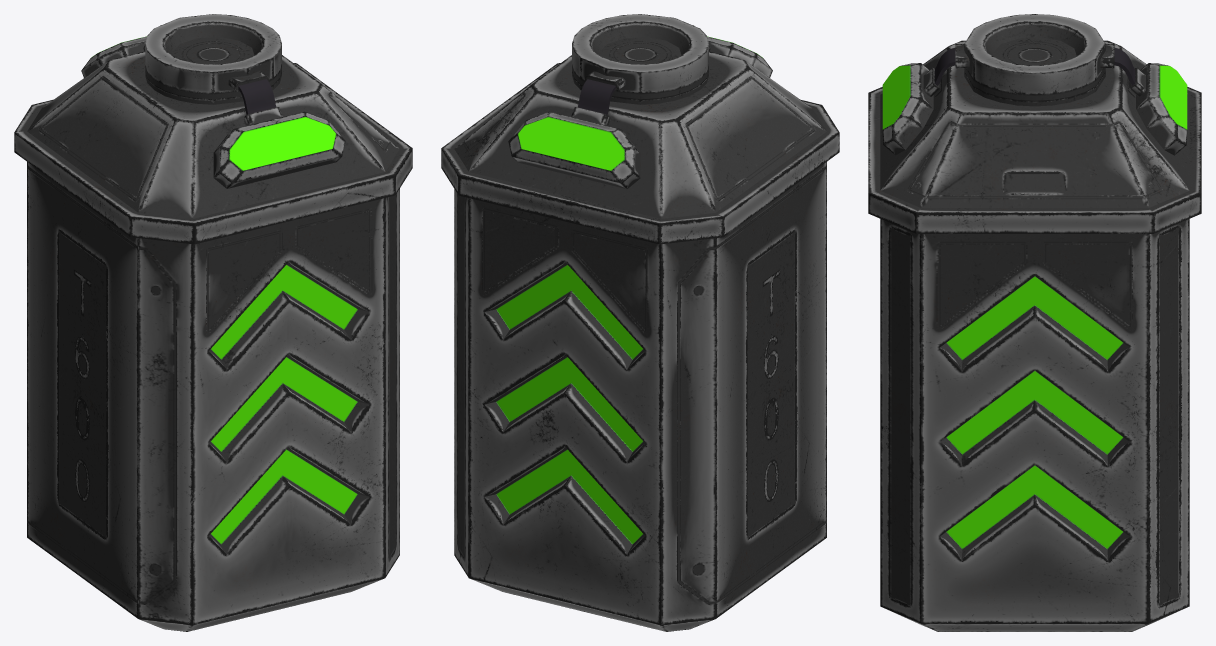
File: PowerCell.FBX
The picture shows the model from 3 angles, left to right: view 1: azimuth 30°, elevation 25°; view 2: azimuth 150°, elevation 25°; view 3: azimuth 270°, elevation 25°; orthographic projection. The views are drawn at different scales.
Visible parts, largest first — view 1: PowerCell; view 2: PowerCell; view 3: PowerCell.
Boxes of the visible parts, box(x1,y1,x2,y2) form: PowerCell: box(14, 14, 412, 631); PowerCell: box(441, 14, 839, 631); PowerCell: box(868, 14, 1201, 631).
Size of the model in its own units: 20.56 by 36.74 by 20.56.
1 material, 1 textured.
